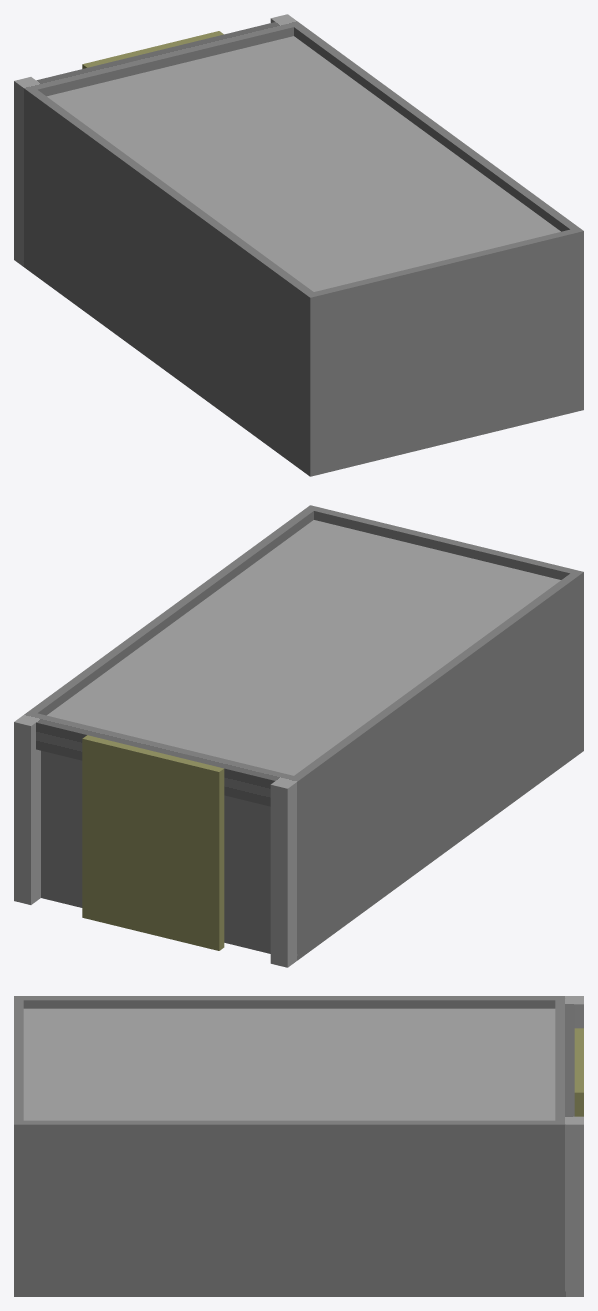
The model's file is obj_story06d.fbx.
3 views of the same model, one above another, from view 1: azimuth 30°, elevation 25°; view 2: azimuth 150°, elevation 25°; view 3: azimuth 270°, elevation 25° (orthographic). The views are drawn at different scales.
Visible parts, largest first — view 1: obj_story06d; view 2: obj_story06d; view 3: obj_story06d.
Part boxes in pixels (x1,y1,x2,y2): obj_story06d: (14,14,583,476); obj_story06d: (14,505,583,967); obj_story06d: (14,996,583,1296).
Size of the model in its own units: 3.2 by 6 by 2.
1 material, 1 textured.
